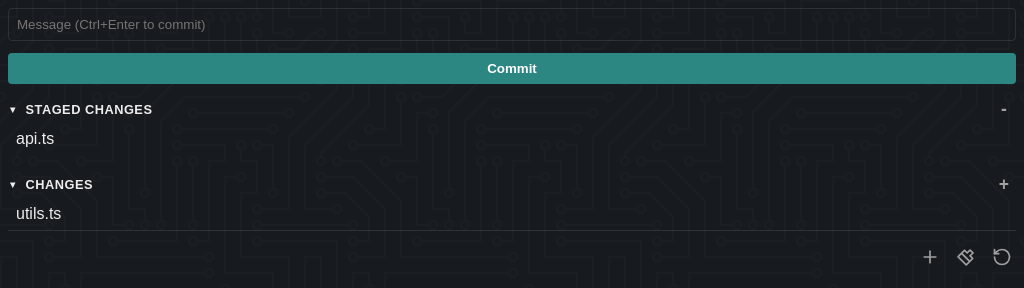
Test: FilesBox Component Tests › Commit and Footer Actions › should discard all changes from both sections
Click the button named "Discard all changes" at (966, 257), box [952, 243, 980, 271]
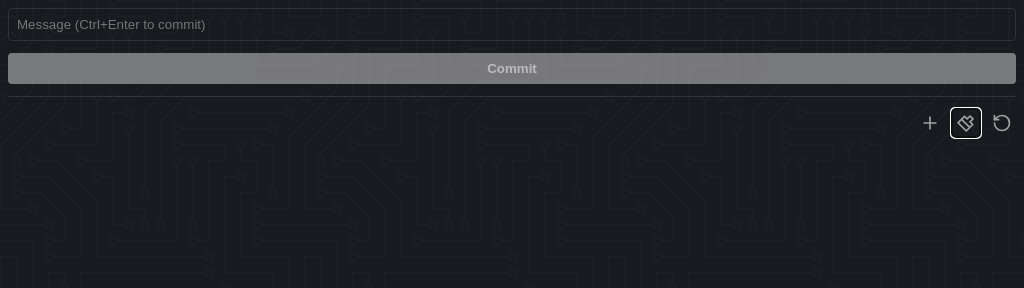
Now the button "Staged Changes" is gone
Now the button "Changes" is gone
